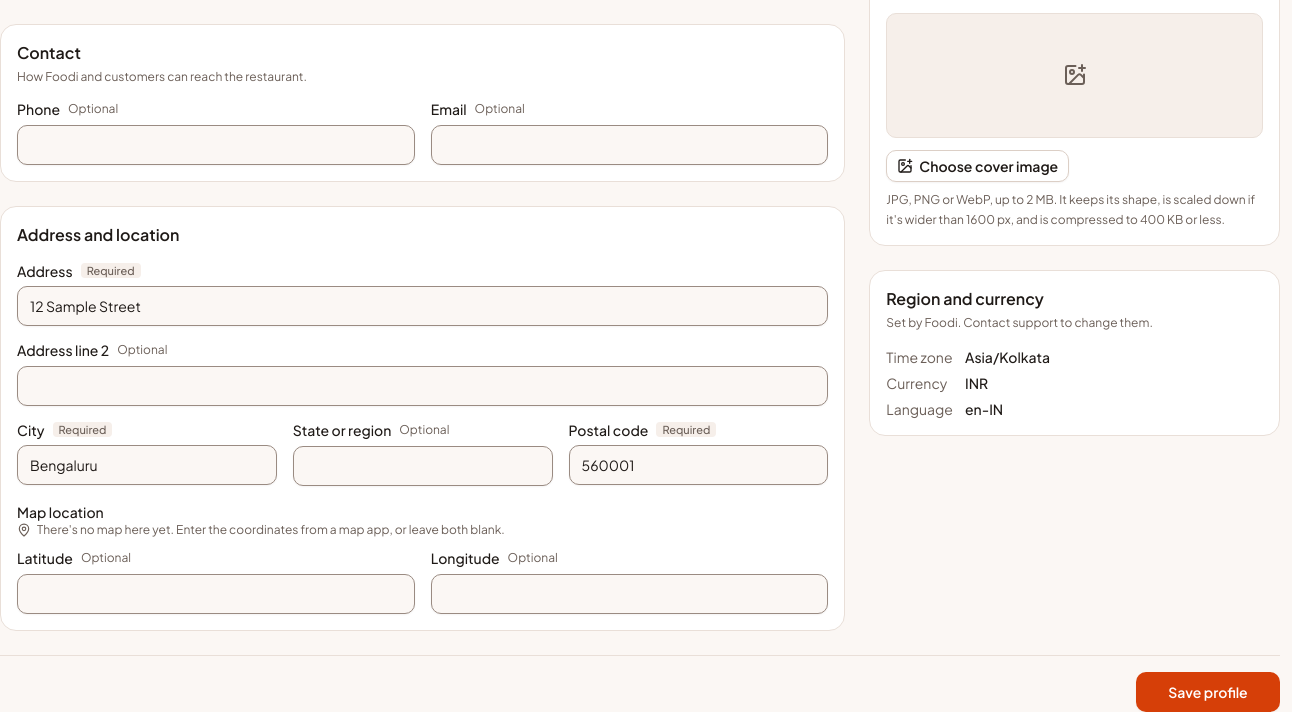
Test: ProfileForm › shows a rejected request as an alert, with the form still usable
(page scrolled)
Click the button "Save profile".
click(1208, 692)  # box x1=1136 y1=672 x2=1280 y2=711
(page scrolled)
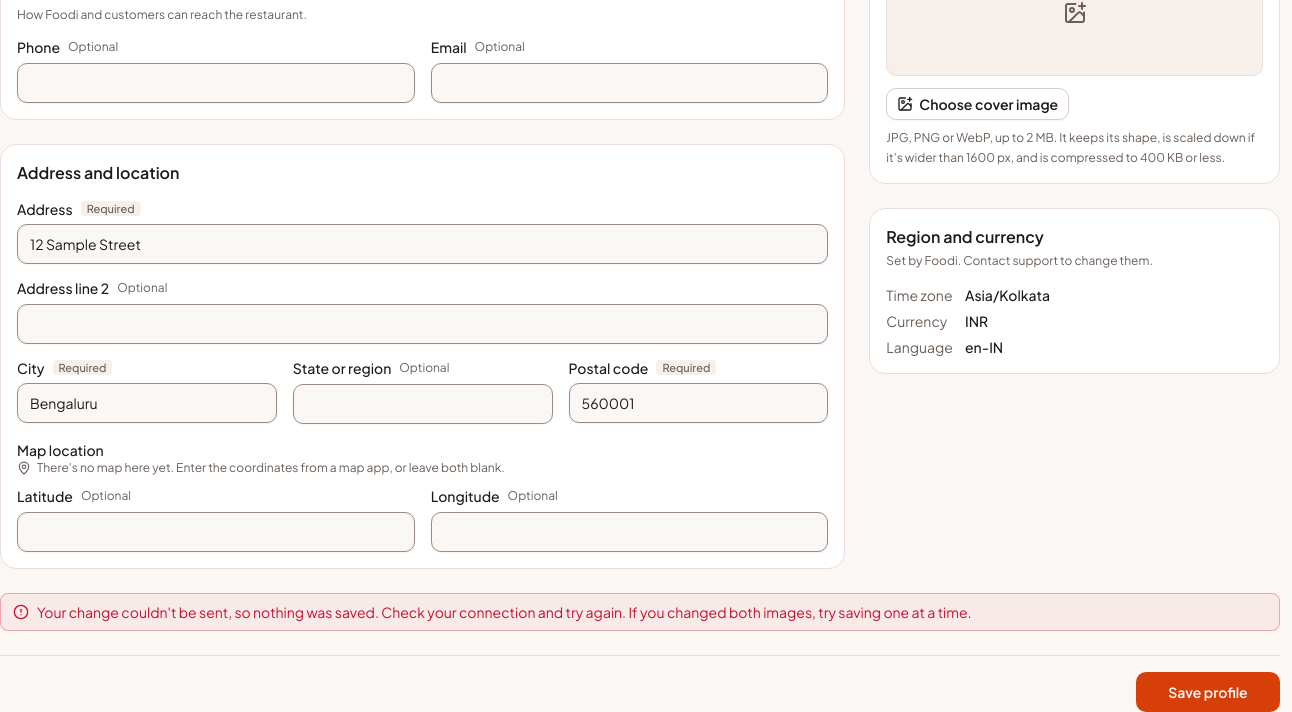
Now the message shows "nothing was saved", box x1=37 y1=603 x2=972 y2=621
